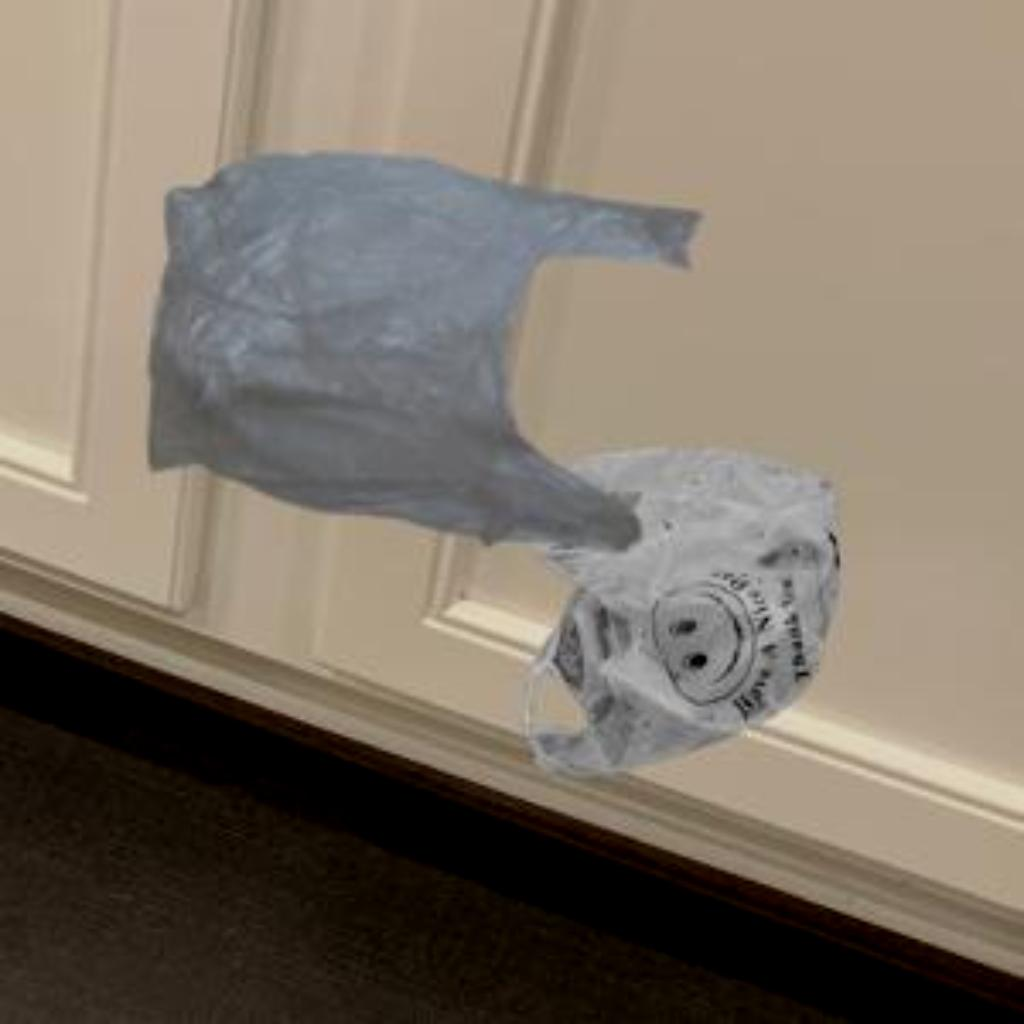garbage: (85, 114, 689, 538), (510, 415, 886, 783)
